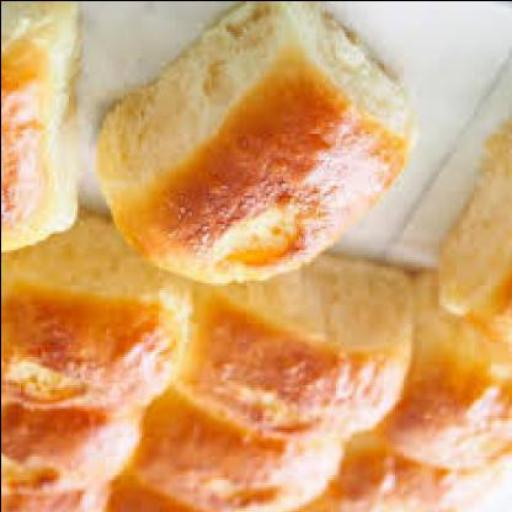biodegradable: (89, 2, 412, 287), (173, 251, 412, 446), (2, 206, 188, 420), (376, 270, 510, 472), (130, 395, 348, 511), (2, 1, 76, 256), (433, 123, 510, 353), (320, 448, 511, 511), (2, 416, 140, 484), (1, 486, 110, 511)
